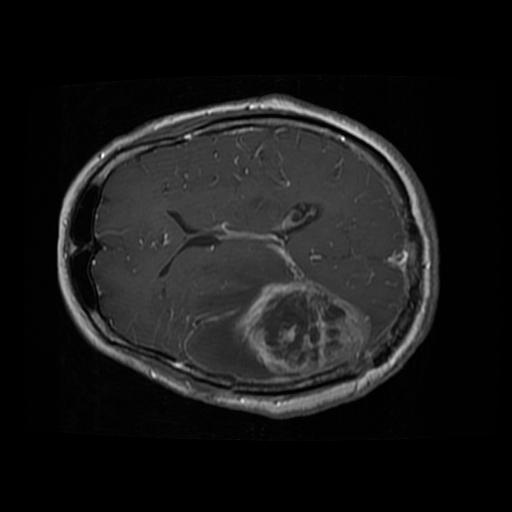glioma: (233, 280, 370, 379)
